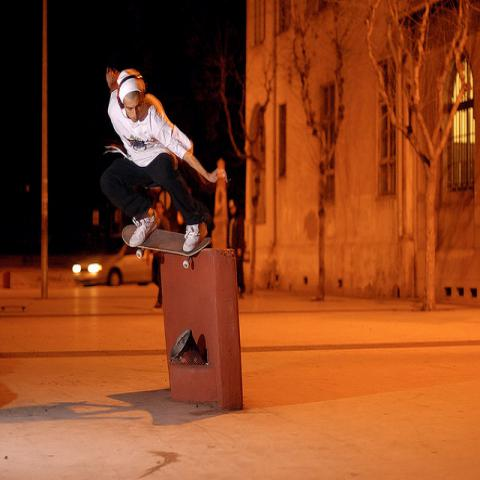car: (72, 243, 153, 287)
